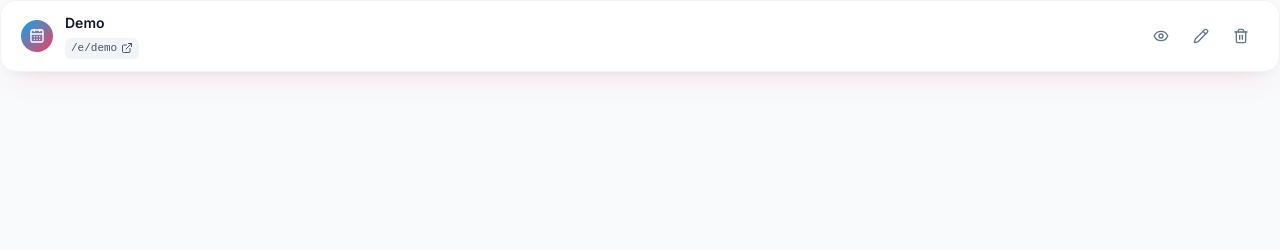
Test: <EventsList> › editar evento › cancelar volta para visualização sem alterar
The width and height of the screenshot is (1280, 250).
expect the text "Demo" is shown: met, box [65,14,104,31]
Step 1. Click the button named "editar" → x=1201, y=36, box [1183,18,1219,54]
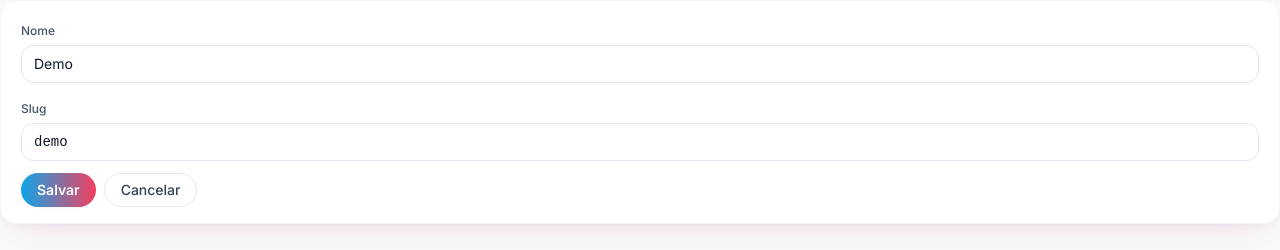
Step 2. Click the button "Cancelar" → x=150, y=190, box [104,173,197,207]
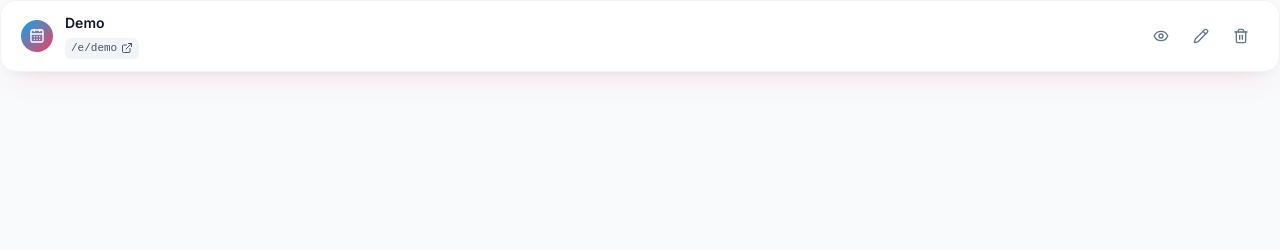
expect the text "Demo" is shown: met, box [65,14,104,31]
